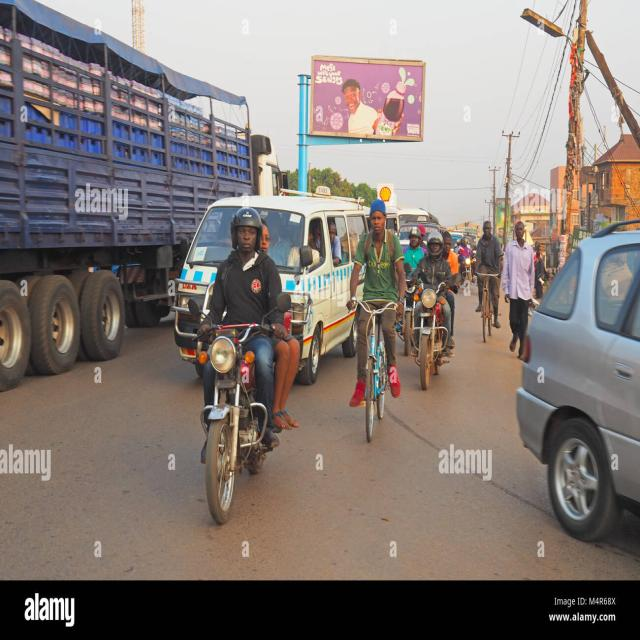bodaboda: (165, 283, 299, 525), (399, 259, 466, 396), (170, 174, 173, 179)
matatu: (282, 190, 359, 382)
